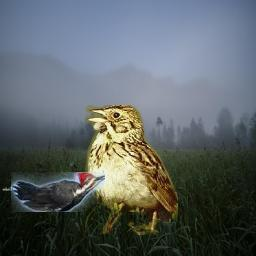Sparrow: (85, 105, 178, 235)
Woodpecker: (11, 172, 105, 212)
